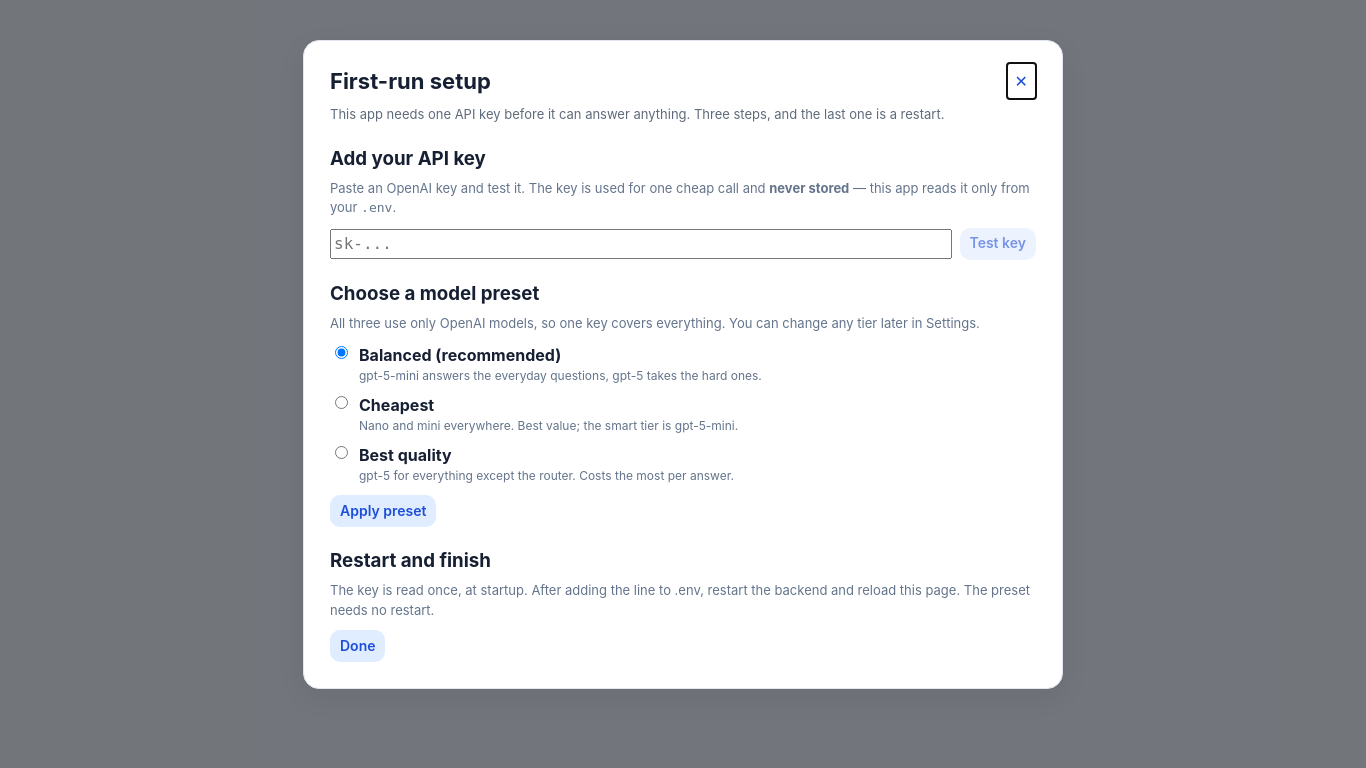
Test: SetupWizard › reports a rejected key without showing the env line
In the password field named "OpenAI API key": (641, 244) [330,229,952,259], type "sk-wrong"
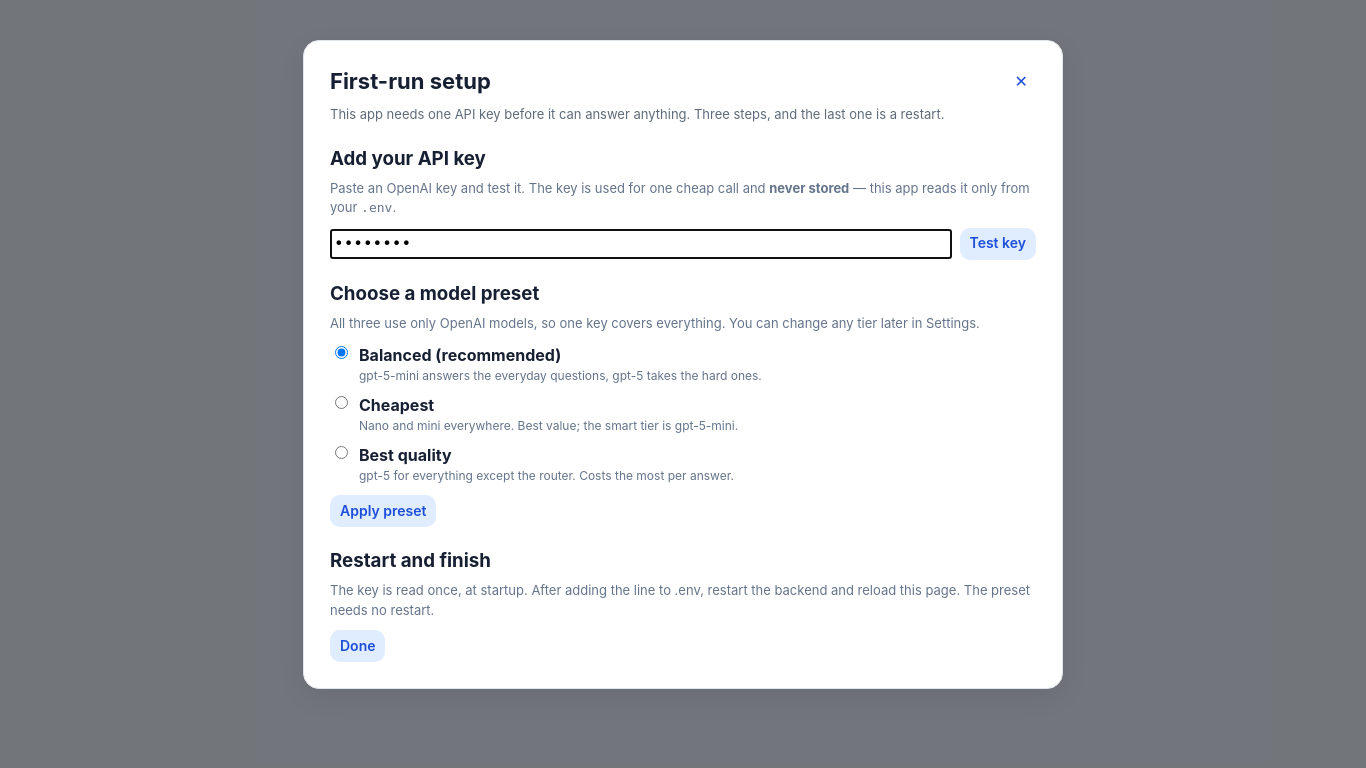
Click the button with aria-label "Test API key": (998, 244) [960,228,1036,260]
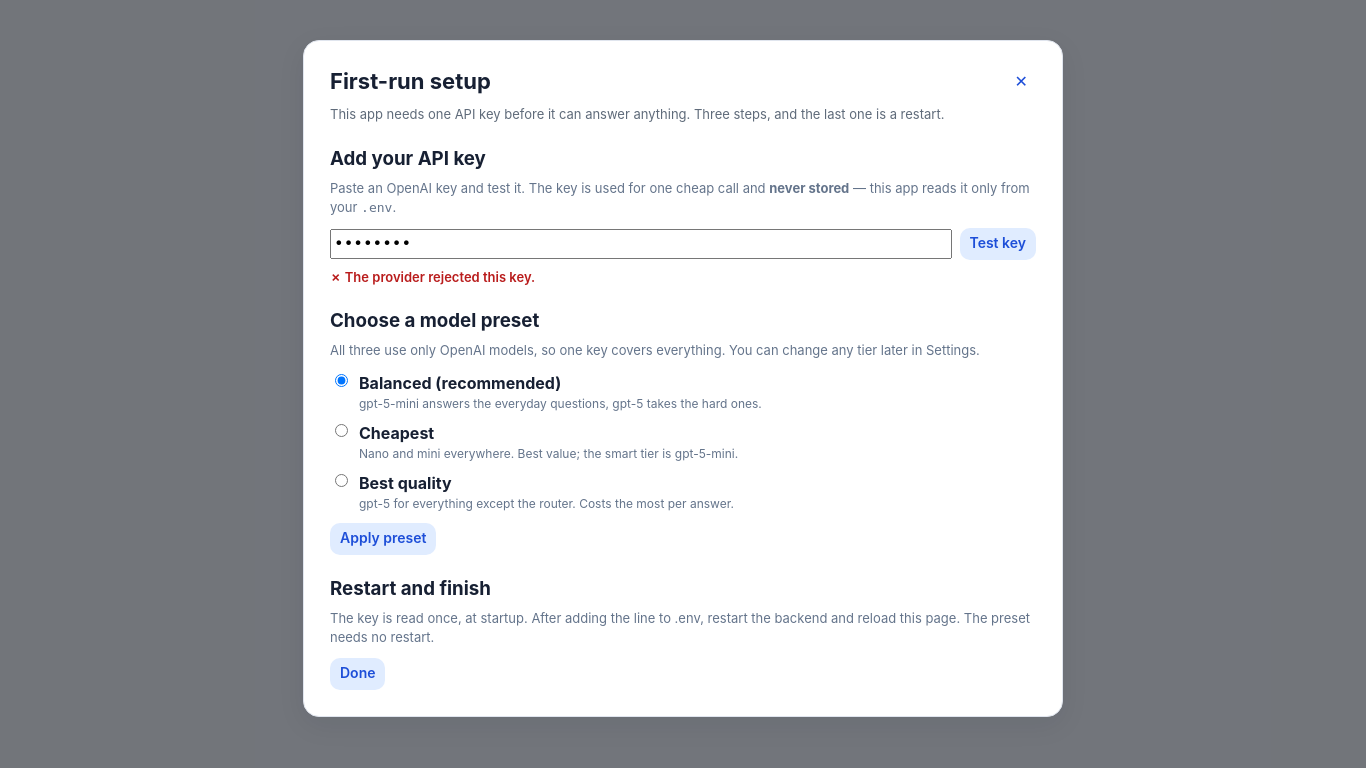
Expected: the text "✗ The provider rejected this key." is shown, [330,269,535,285]
